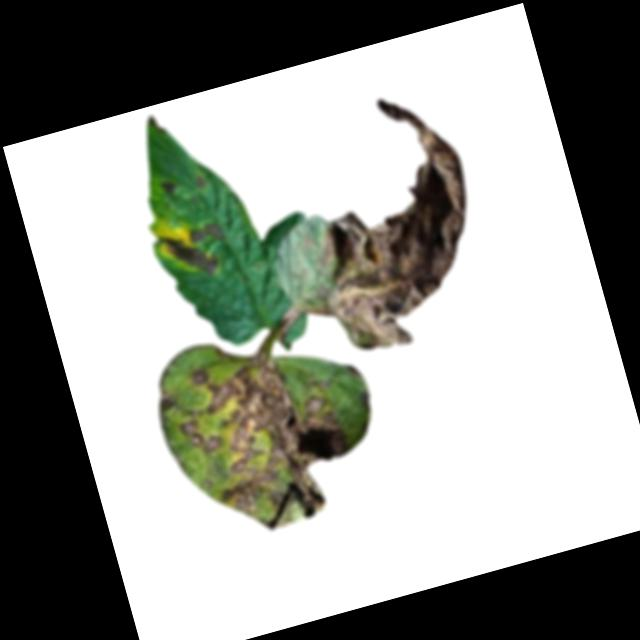Early_blight: (270, 80, 504, 363), (145, 331, 368, 554), (154, 213, 237, 286), (192, 170, 211, 189), (160, 176, 178, 195)
